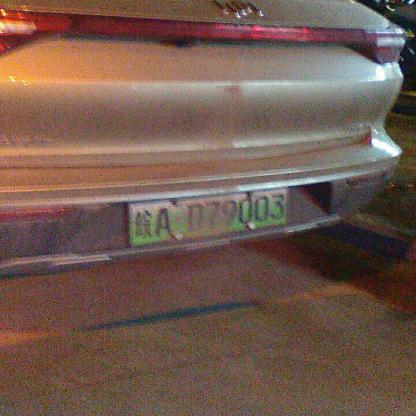lp: (127, 188, 287, 244)
